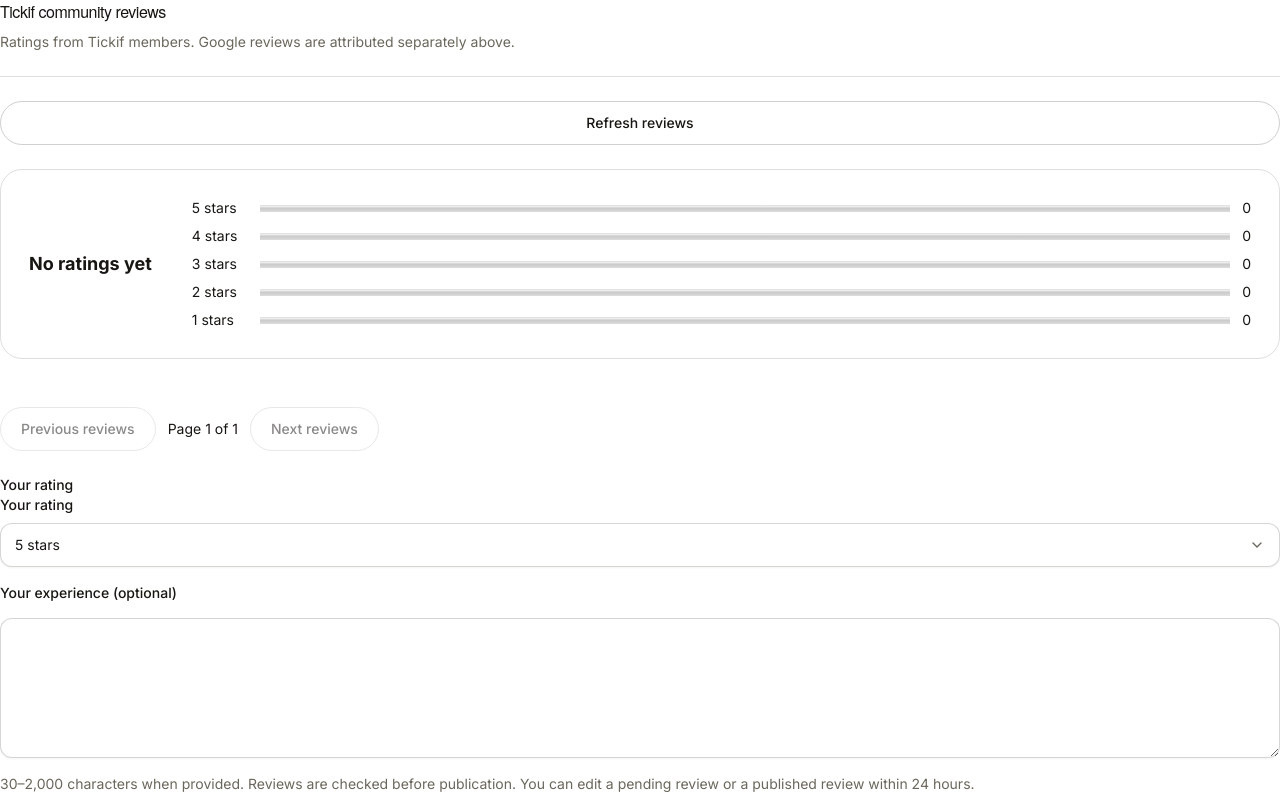
Tickif review display › keeps a committed review successful when the follow-up refresh fails
In the text box labelled "Your experience (optional)": (640, 688) [0,618,1279,758], type "Thoughtful design and attentive service throughout."
(page scrolled)
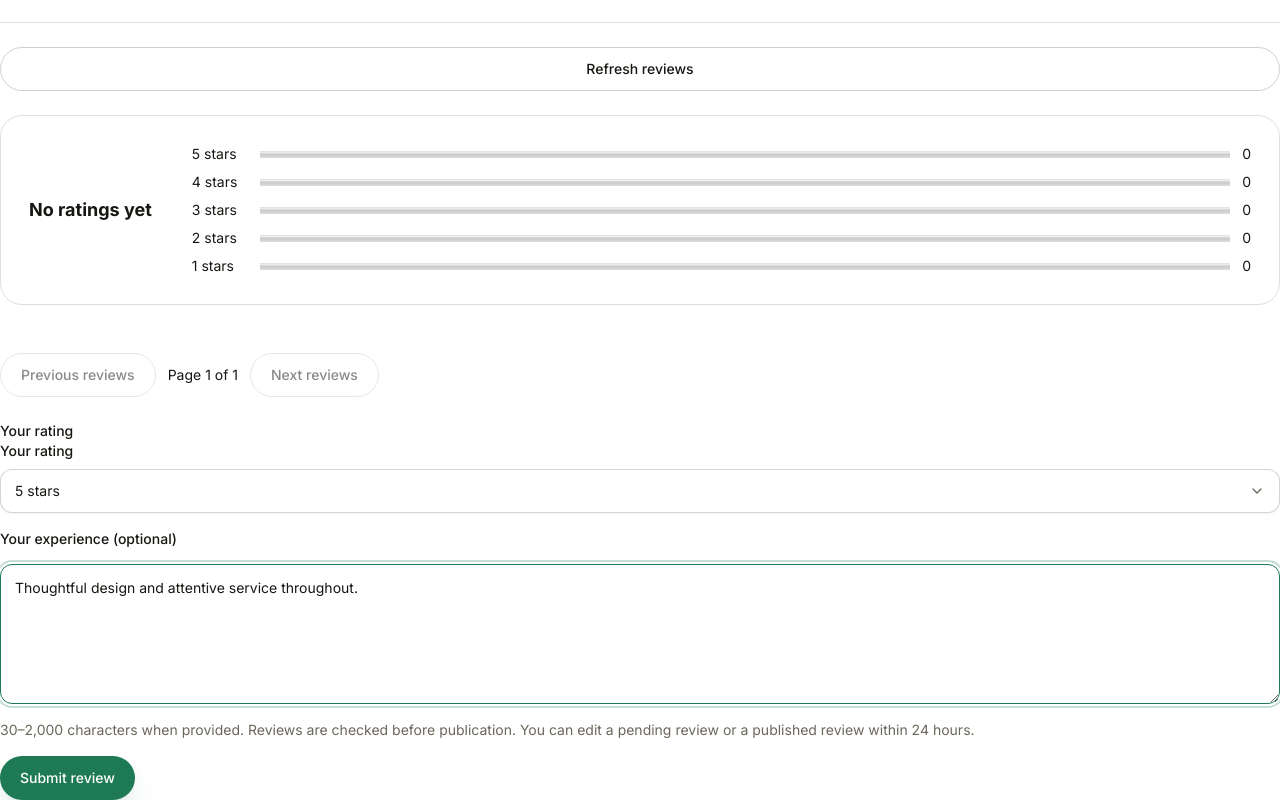
Click the button "Submit review": (67, 778) [0,756,135,799]
(page scrolled)
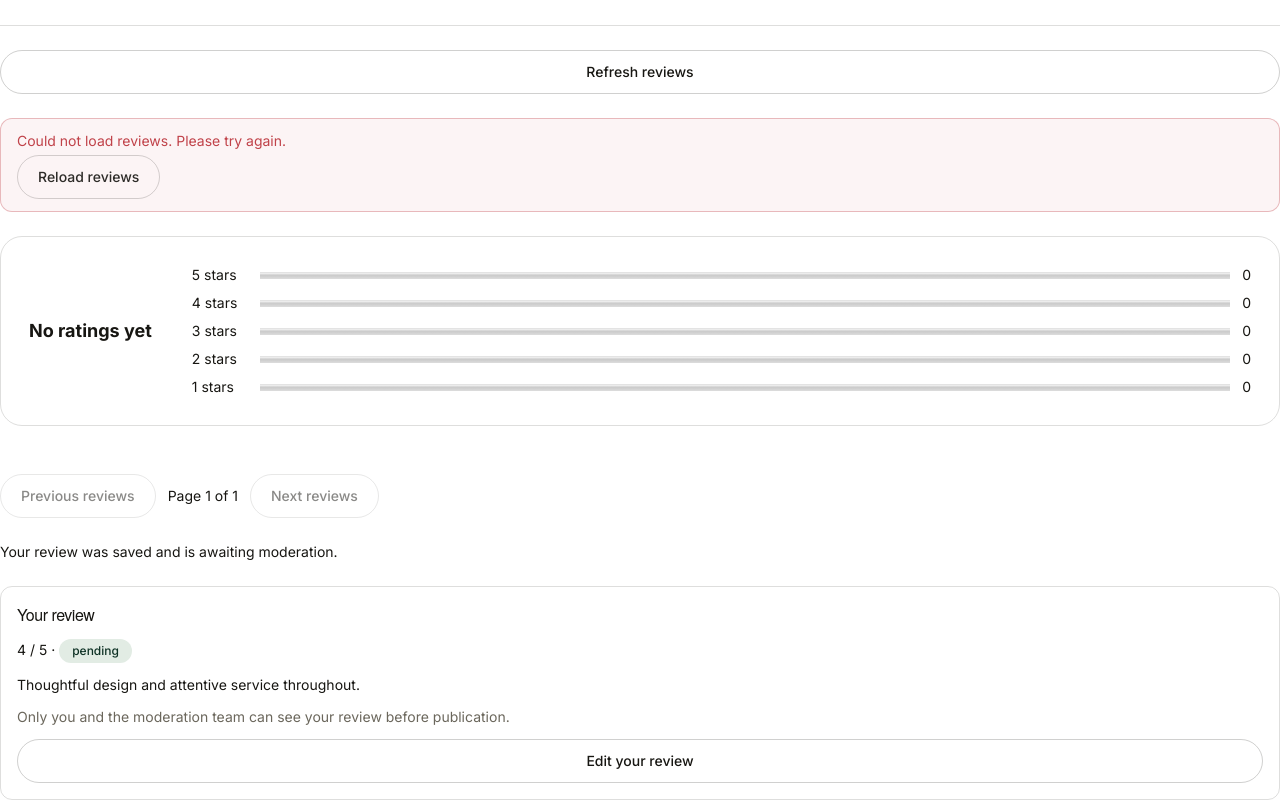
Result: the message "Your review was saved and is awaiting moderation." is shown at [0,543,338,560]
Result: the element "Your review" shows "pending" at [72,643,119,658]
Result: the message "Could not load reviews. Please try again. Reload reviews" is shown at [0,118,1279,212]
